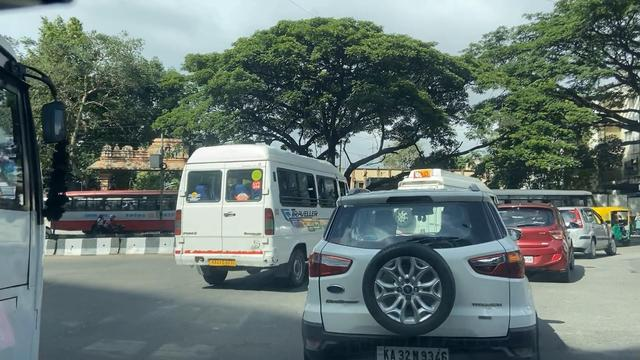HMV: (201, 149, 332, 287)
LMV: (318, 208, 528, 360)
RoadDamages: (84, 276, 267, 360)
